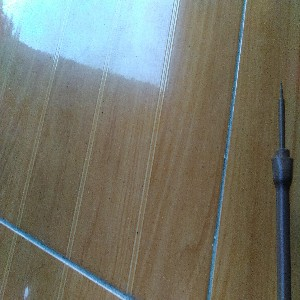solder: (269, 80, 294, 300)
